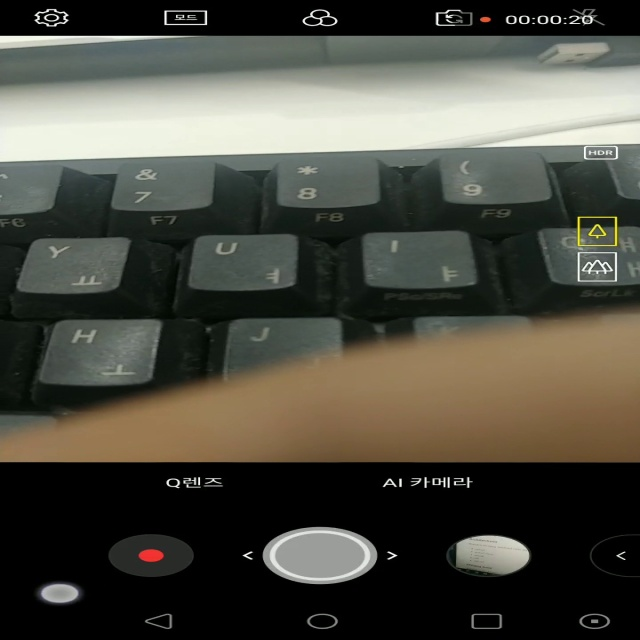Cursor: (40, 584, 84, 606)
